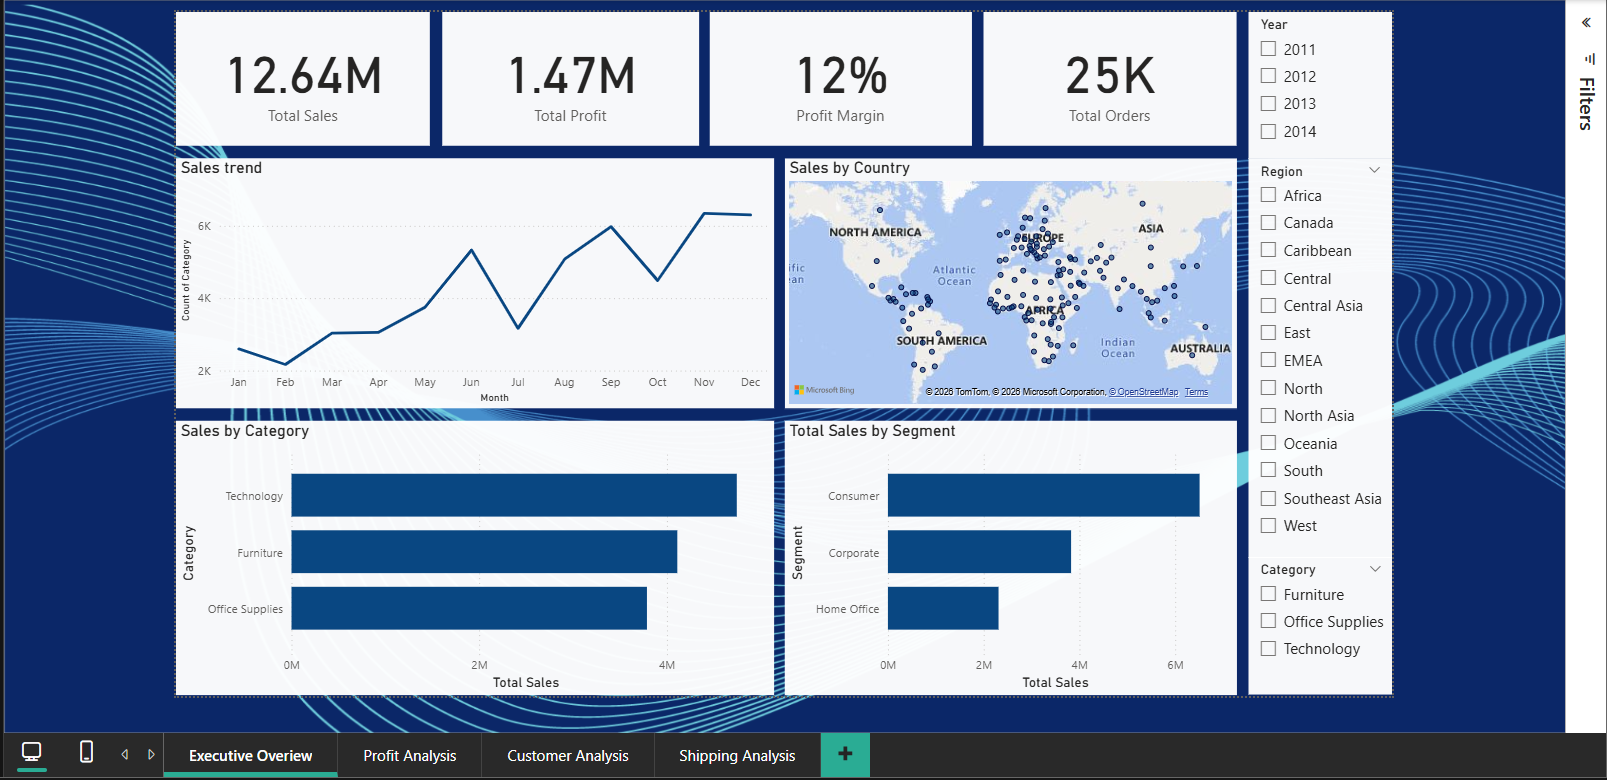

The page's visual inventory and layout, read from the dashboard file:
{"tool":"powerbi","page":{"name":"Executive Overiew","canvas":[1280,720],"ordinal":0},"visuals":[{"type":"card","fields":{"Values":["DateTable.Total Sales"]},"box":[0,0,267.6,140.5],"z":0},{"type":"card","fields":{"Values":["DateTable.Total Profit"]},"box":[279.7,0,270.3,140.5],"z":1000},{"type":"card","fields":{"Values":["DateTable.Profit Margin"]},"box":[562.2,0,275.7,140.5],"z":2000},{"type":"card","fields":{"Values":["DateTable.Total Orders"]},"box":[850,0,266.2,140.5],"z":3000},{"type":"lineChart","title":"Sales trend","fields":{"Category":["DateTable.Month"],"Y":["CountNonNull(superstore.Category)"]},"box":[0,154.1,629.7,263.5],"z":4000},{"type":"clusteredBarChart","title":"Sales by Category","fields":{"Category":["superstore.Category"],"Y":["DateTable.Total Sales"]},"box":[0,429.7,629.7,289.2],"z":5000},{"type":"map","title":"Sales by Country","fields":{"Y":["DateTable.Total Sales"],"Category":["superstore.Country"]},"box":[640.5,154.1,475.7,263.5],"z":6000},{"type":"slicer","fields":{"Values":["superstore.Region"]},"box":[1128.6,154.5,151.9,420.8],"z":7000},{"type":"slicer","fields":{"Values":["superstore.Category"]},"box":[1128.4,574.3,152.7,144.6],"z":8000},{"type":"clusteredBarChart","fields":{"Category":["superstore.Segment"],"Y":["DateTable.Total Sales"]},"box":[640.5,429.7,475.7,289.2],"z":9000},{"type":"slicer","fields":{"Values":["DateTable.Year Hierarchy.Year"]},"box":[1128.6,0,151.9,154.5],"z":10000}]}

Visuals, with their boxes on the page's 1280x720 design canvas (x1, y1, x2, y2). These are canvas units, not pixel positions in the 1607x780 screenshot, which may show the page scaled, cropped or inside an application window:
card - DateTable.Total Sales: l=0, t=0, r=268, b=140
card - DateTable.Total Profit: l=280, t=0, r=550, b=140
card - DateTable.Profit Margin: l=562, t=0, r=838, b=140
card - DateTable.Total Orders: l=850, t=0, r=1116, b=140
"Sales trend" lineChart: l=0, t=154, r=630, b=418
"Sales by Category" clusteredBarChart: l=0, t=430, r=630, b=719
"Sales by Country" map: l=640, t=154, r=1116, b=418
slicer - superstore.Region: l=1129, t=154, r=1280, b=575
slicer - superstore.Category: l=1128, t=574, r=1281, b=719
clusteredBarChart - superstore.Segment x DateTable.Total Sales: l=640, t=430, r=1116, b=719
slicer - DateTable.Year Hierarchy.Year: l=1129, t=0, r=1280, b=154
